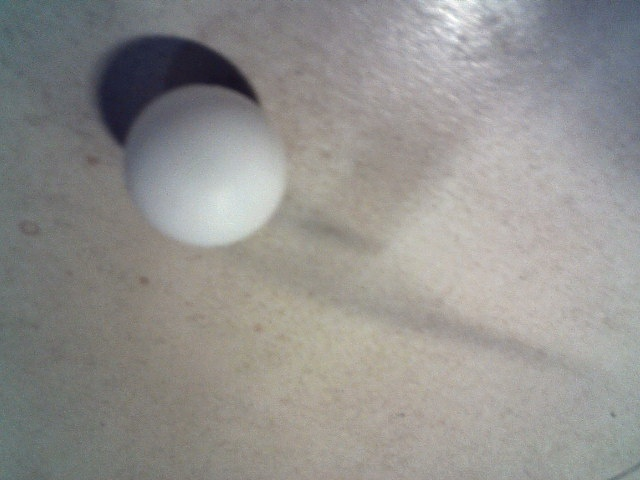pingpong: (124, 85, 287, 247)
